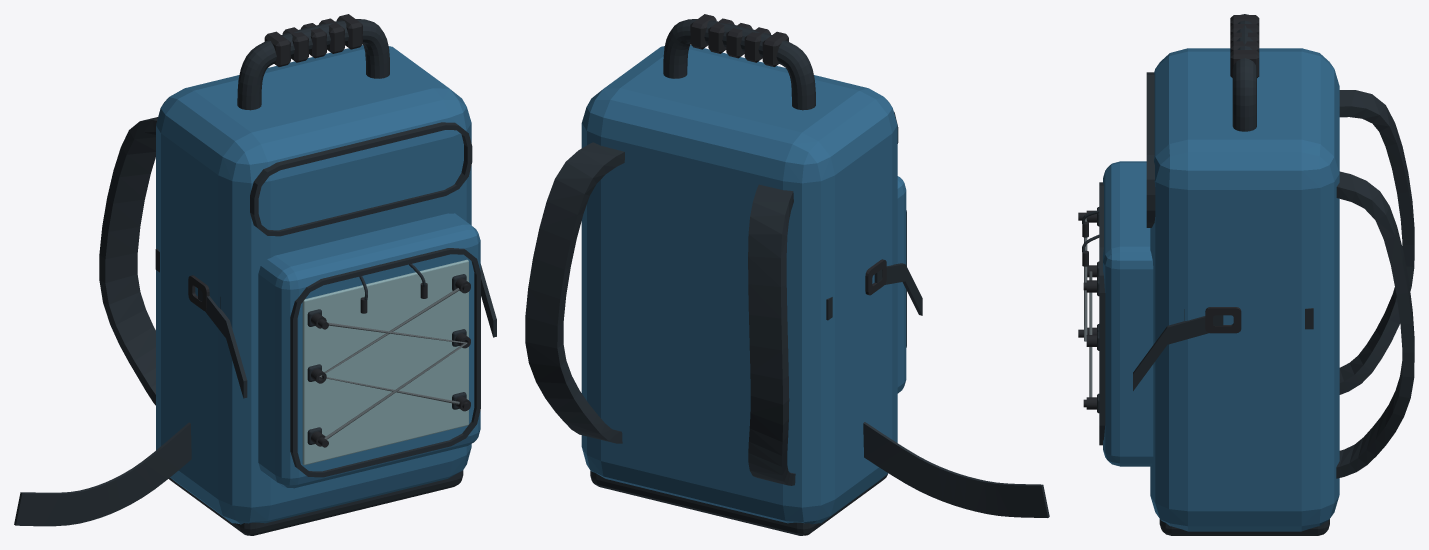
File: full.glb
3 views of the same model, side by side, from view 1: azimuth 30°, elevation 25°; view 2: azimuth 150°, elevation 25°; view 3: azimuth 270°, elevation 25° (orthographic).
Parts seen in each view (by area): view 1: Rounded main soft bag, Contrasting pouch panel, Bulging front compartment, Generic padded rear shoulder strap -1, Loose lower webbing, Nested front zipper perimeter, Main arched zipper perimeter, Top grab handle, Reinforced bottom panel, Loose compression tail -1, Crisscross elastic cord -1, Crisscross elastic cord 1 (+1 smaller); view 2: Rounded main soft bag, Generic padded rear shoulder strap 1, Generic padded rear shoulder strap -1, Loose lower webbing, Top grab handle, Reinforced bottom panel, Bulging front compartment, Loose compression tail -1; view 3: Rounded main soft bag, Bulging front compartment, Generic padded rear shoulder strap 1, Generic padded rear shoulder strap -1, Top grab handle, Nested front zipper perimeter, Loose compression tail 1, Main arched zipper perimeter, Reinforced bottom panel, Side release buckle 1, Segmented handle grip 4, Crisscross elastic cord 1.
Boxes of the visible parts, x1,y1,x2,y2 form: Rounded main soft bag: [156, 45, 471, 524]; Contrasting pouch panel: [302, 259, 468, 465]; Bulging front compartment: [258, 213, 480, 488]; Generic padded rear shoulder strap -1: [99, 117, 157, 405]; Loose lower webbing: [14, 422, 191, 526]; Nested front zipper perimeter: [290, 248, 480, 477]; Main arched zipper perimeter: [250, 122, 472, 236]; Top grab handle: [237, 19, 389, 110]; Reinforced bottom panel: [168, 470, 463, 535]; Loose compression tail -1: [198, 289, 247, 398]; Crisscross elastic cord -1: [324, 322, 467, 439]; Crisscross elastic cord 1: [319, 288, 459, 404]; Rounded main soft bag: [581, 45, 897, 524]; Generic padded rear shoulder strap 1: [525, 142, 624, 443]; Generic padded rear shoulder strap -1: [748, 184, 795, 485]; Loose lower webbing: [863, 422, 1049, 517]; Top grab handle: [663, 19, 815, 110]; Reinforced bottom panel: [590, 471, 887, 535]; Bulging front compartment: [897, 176, 906, 393]; Loose compression tail -1: [874, 263, 922, 315]; Rounded main soft bag: [1150, 48, 1339, 531]; Bulging front compartment: [1103, 161, 1153, 466]; Generic padded rear shoulder strap 1: [1336, 171, 1414, 478]; Generic padded rear shoulder strap -1: [1339, 90, 1414, 394]; Top grab handle: [1232, 14, 1256, 131]; Nested front zipper perimeter: [1099, 182, 1105, 445]; Loose compression tail 1: [1133, 315, 1223, 390]; Main arched zipper perimeter: [1146, 72, 1155, 227]; Reinforced bottom panel: [1159, 519, 1329, 535]; Side release buckle 1: [1205, 307, 1241, 333]; Segmented handle grip 4: [1230, 50, 1259, 77]; Crisscross elastic cord 1: [1089, 271, 1092, 397].
Size of the model in its own units: 0.5758 by 0.5798 by 0.3908.
